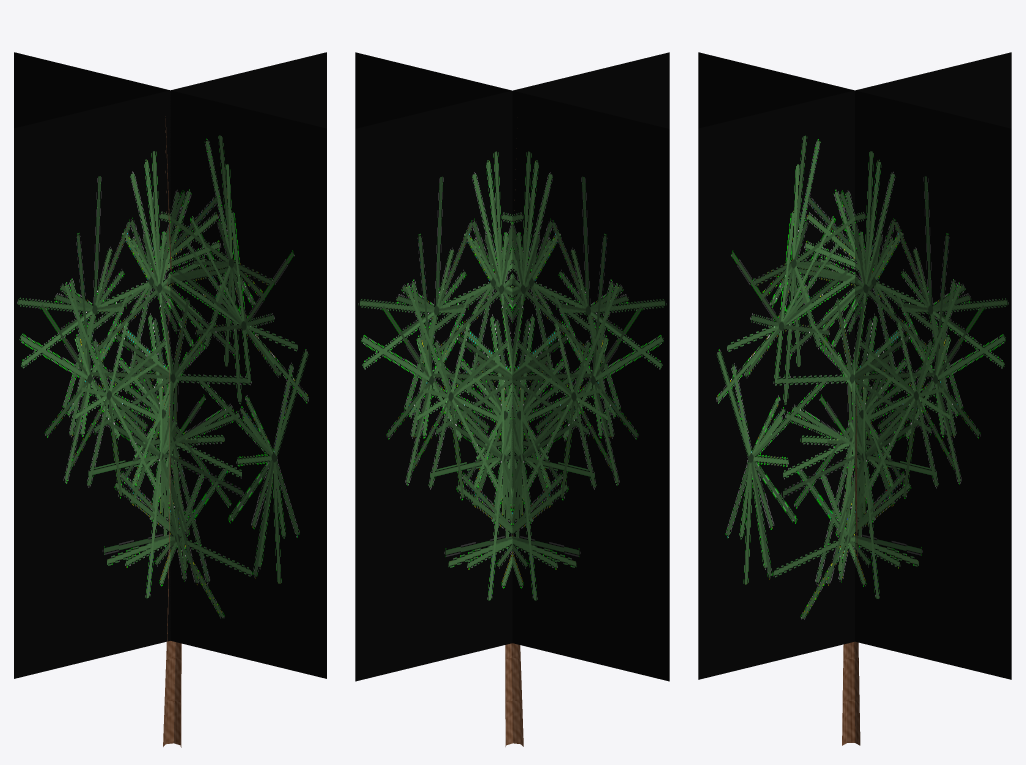
Rendered from Pine_Weathered_LOD2.glb.
The picture shows the model from 3 angles, left to right: view 1: azimuth 30°, elevation 25°; view 2: azimuth 150°, elevation 25°; view 3: azimuth 270°, elevation 25°; orthographic projection.
Parts seen in each view (by area): view 1: Foliage_Cross_1, Foliage_Cross_0, Trunk_Mesh; view 2: Foliage_Cross_0, Foliage_Cross_2, Trunk_Mesh; view 3: Foliage_Cross_1, Foliage_Cross_2, Trunk_Mesh.
Boxes of the visible parts, x1,y1,x2,y2 form: Foliage_Cross_1: (14, 52, 326, 678); Foliage_Cross_0: (14, 52, 326, 678); Trunk_Mesh: (163, 116, 181, 747); Foliage_Cross_0: (355, 52, 669, 681); Foliage_Cross_2: (355, 52, 669, 681); Trunk_Mesh: (505, 148, 523, 746); Foliage_Cross_1: (698, 52, 1011, 679); Foliage_Cross_2: (698, 52, 1011, 679); Trunk_Mesh: (842, 396, 860, 745).
Size of the model in its own units: 9.57 by 19.16 by 8.28.
2 materials, 2 textured.
